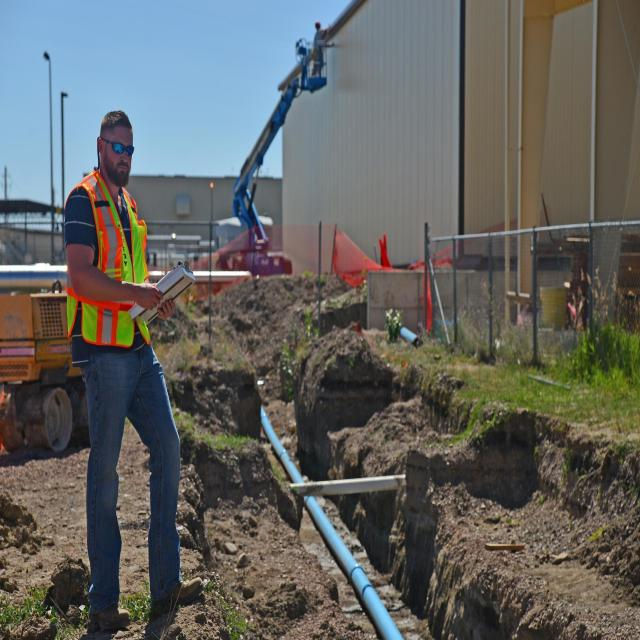vest: (64, 163, 155, 345)
